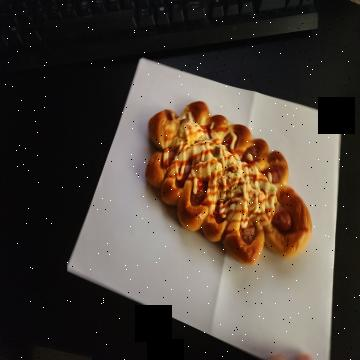pizza_bread: (148, 102, 312, 265)
